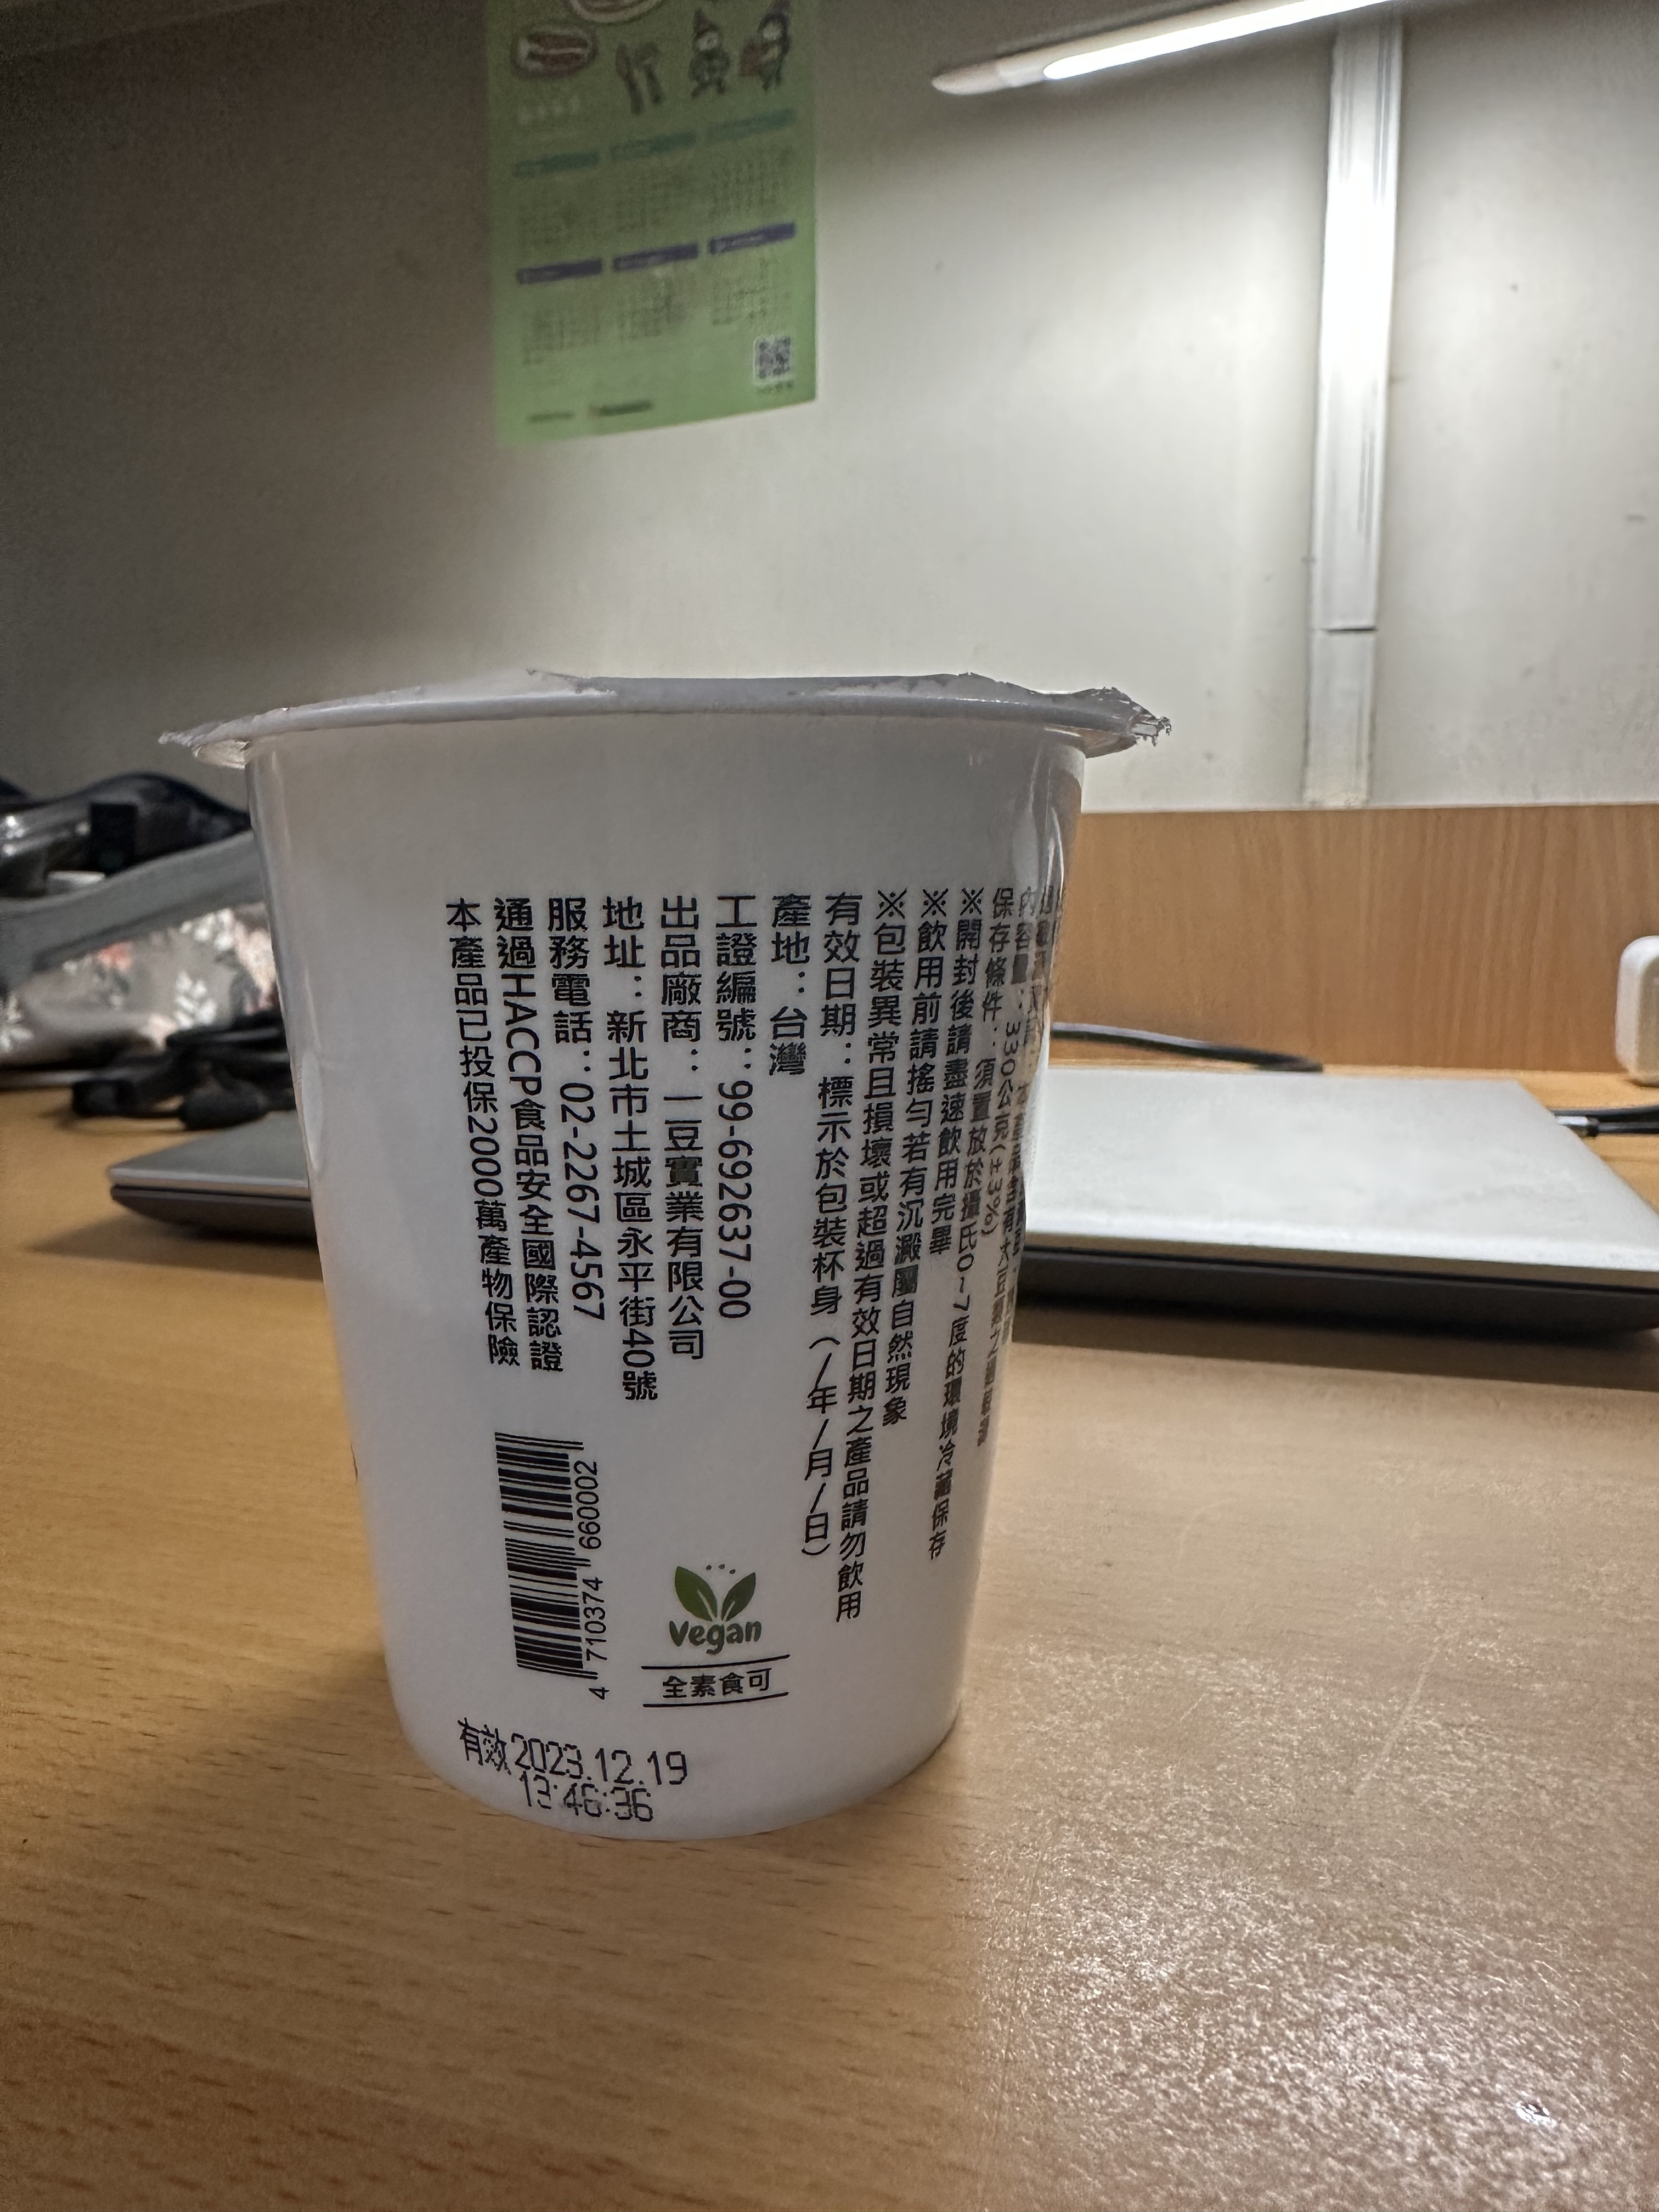cup: (160, 669, 1173, 1843)
